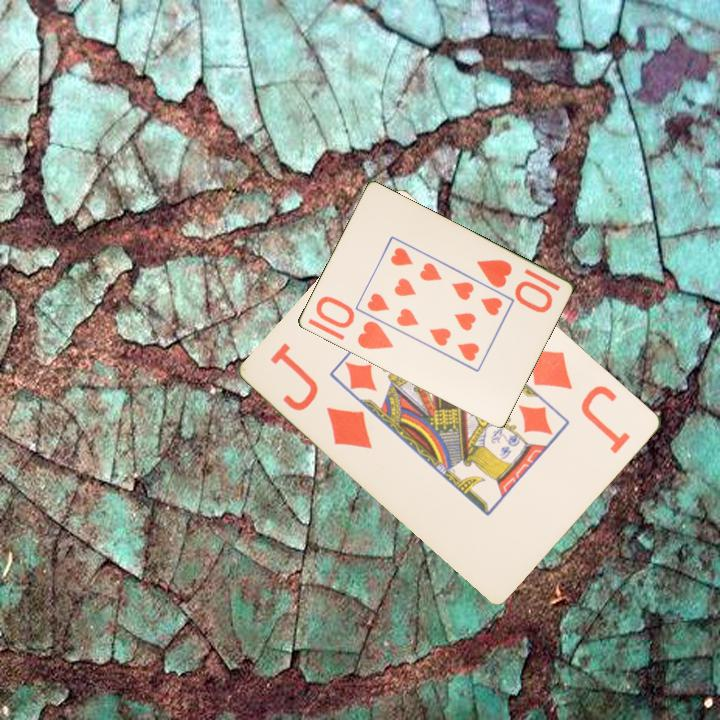10h: (312, 293, 396, 353), (473, 256, 555, 315)
Jd: (522, 343, 634, 457), (267, 338, 377, 453)
